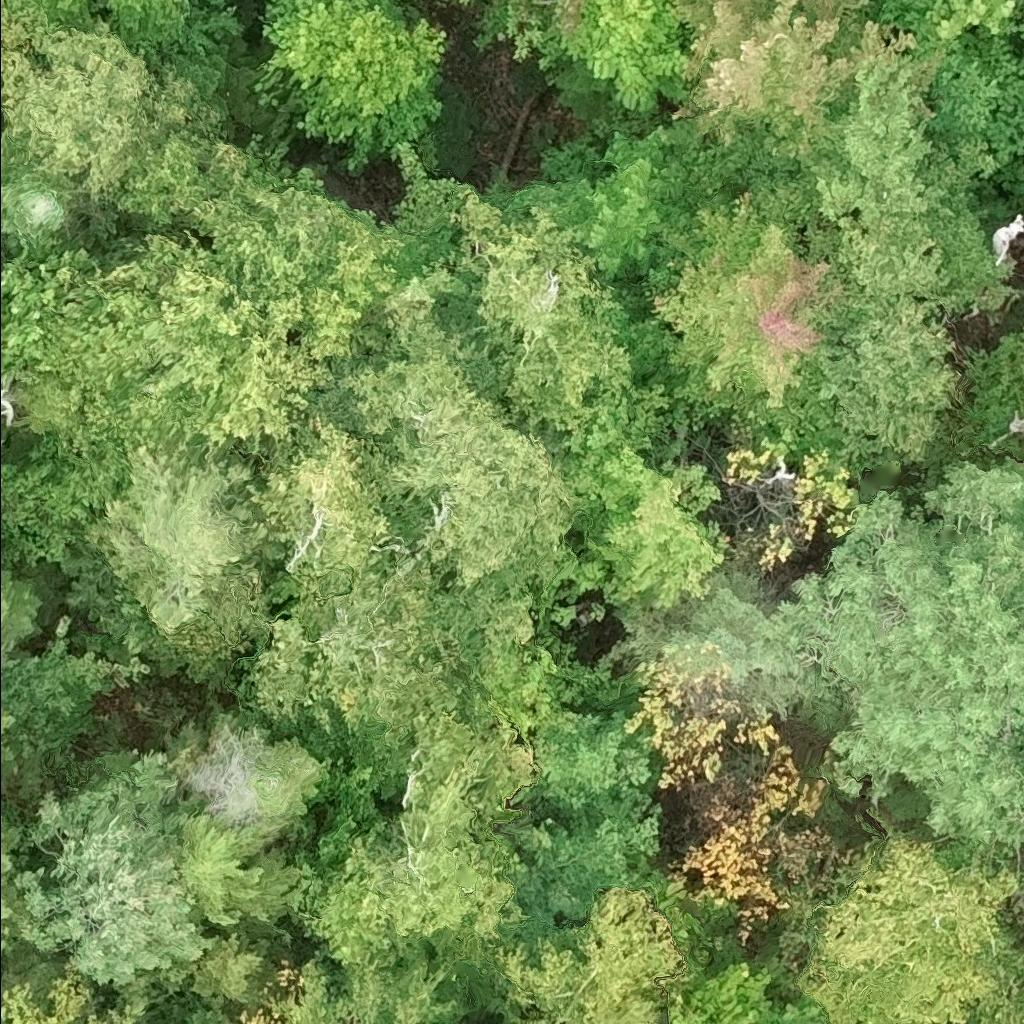crown: (769, 457, 1023, 856), (33, 224, 342, 477), (321, 345, 575, 646), (286, 707, 535, 973), (777, 205, 1015, 468), (233, 549, 477, 779), (188, 137, 422, 376), (12, 748, 216, 988), (452, 193, 630, 461), (637, 189, 848, 410), (666, 0, 916, 180), (0, 18, 226, 213), (797, 832, 1023, 1023), (75, 438, 268, 645), (565, 398, 727, 610), (256, 0, 449, 170), (488, 885, 685, 1023), (247, 394, 398, 572), (552, 126, 690, 280), (0, 125, 129, 268), (507, 698, 659, 815), (468, 631, 615, 743), (178, 808, 304, 938), (552, 0, 686, 116), (107, 131, 214, 237), (0, 965, 149, 1023), (666, 958, 782, 1023), (188, 925, 278, 1004), (987, 34, 1023, 167), (0, 800, 23, 968), (923, 0, 1017, 41), (0, 568, 49, 640), (780, 991, 834, 1023), (0, 712, 19, 761), (1005, 21, 1023, 49), (0, 234, 7, 286)
